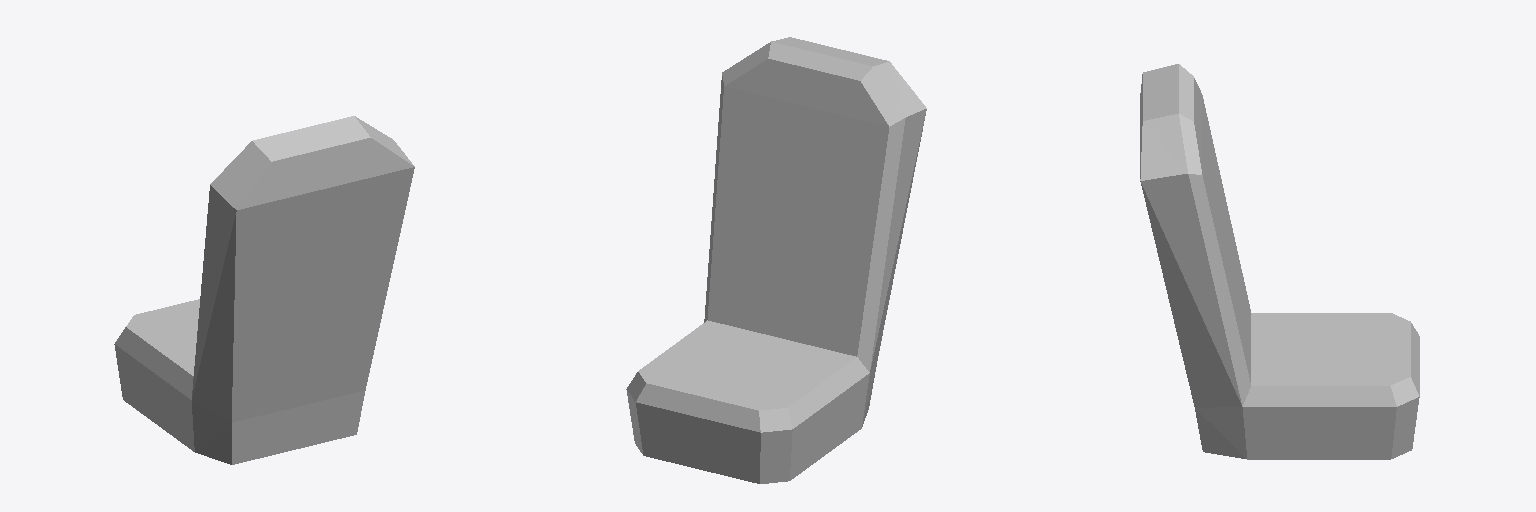
The model's file is chair.obj.
3 views of the same model, side by side, from view 1: azimuth 30°, elevation 25°; view 2: azimuth 150°, elevation 25°; view 3: azimuth 270°, elevation 25° (orthographic).
Visible parts, largest first — view 1: Chair; view 2: Chair; view 3: Chair.
Part boxes in pixels (bbox=[...]): Chair: bbox=[114, 116, 414, 464]; Chair: bbox=[626, 37, 926, 483]; Chair: bbox=[1140, 64, 1419, 459].
Size of the model in its own units: 1.37 by 2.35 by 1.8.